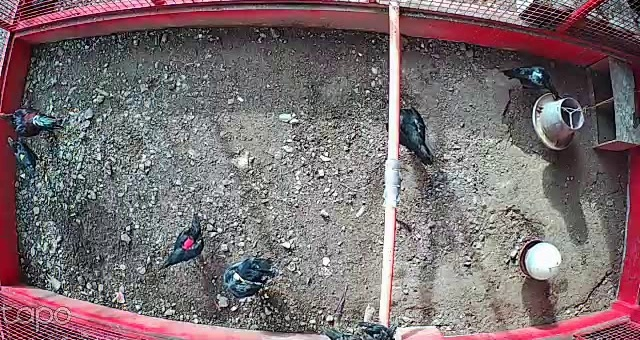Chicken: (386, 105, 439, 164), (159, 210, 207, 271), (220, 250, 274, 300), (499, 60, 560, 102), (0, 133, 45, 179), (321, 317, 396, 340)
Rooster: (0, 102, 65, 141)
Saddle_Color_Red: (180, 237, 192, 250)
Saddle_Color_Yellow: (16, 152, 25, 162)
Saddle_Color_YellowGreen: (229, 272, 247, 288)
